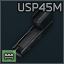HK USP .45 ACP Match compensator: (0, 0, 64, 64)
